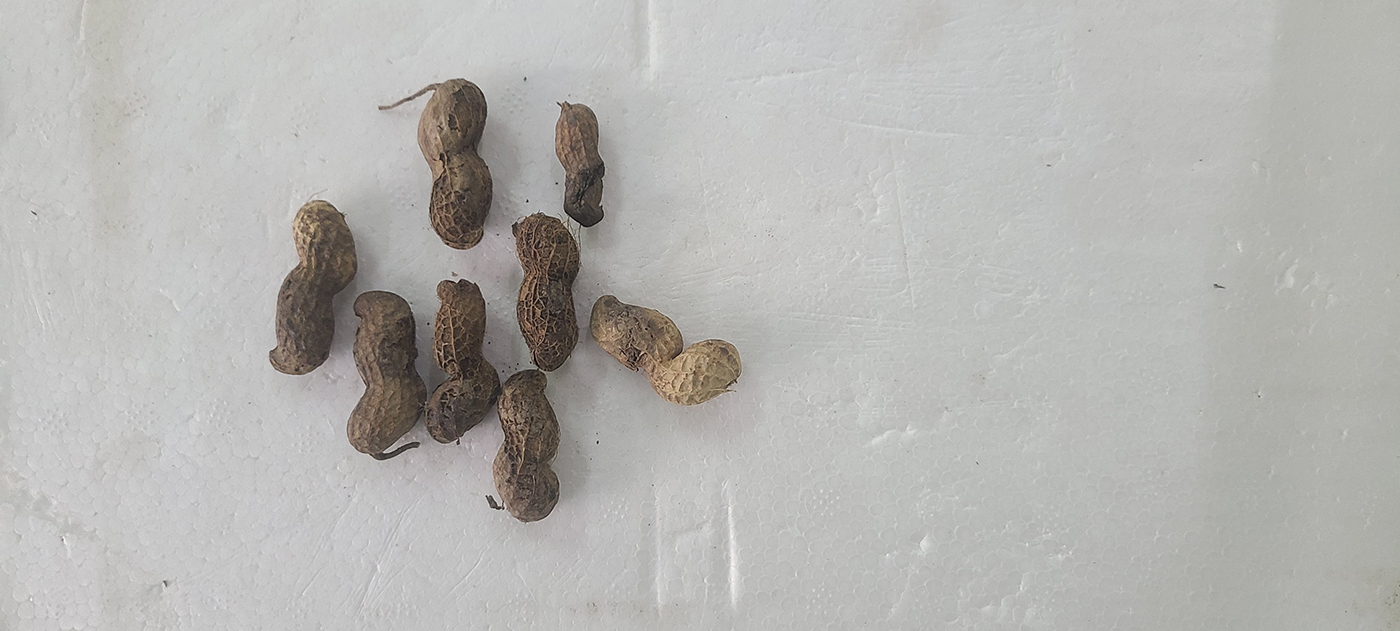l: (589, 295, 742, 405), (270, 199, 356, 374), (416, 77, 493, 250), (345, 290, 426, 454), (423, 279, 501, 442), (511, 213, 581, 370), (493, 370, 560, 523), (555, 101, 606, 226)
